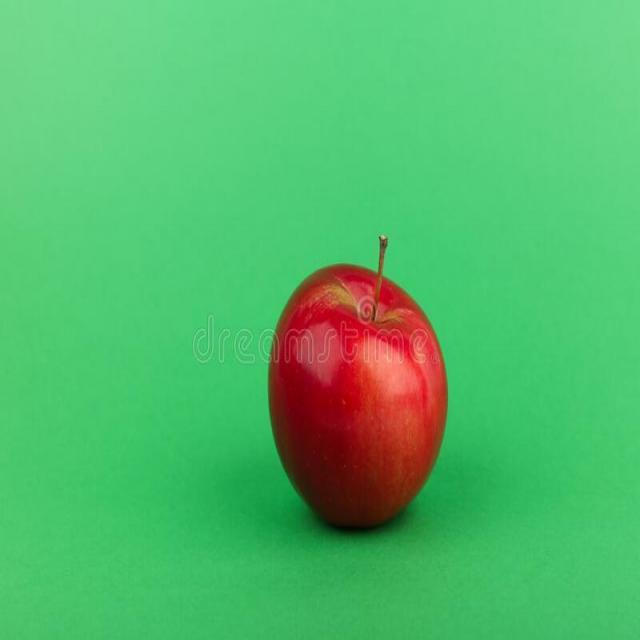Fresh Apple: (255, 250, 455, 538)
